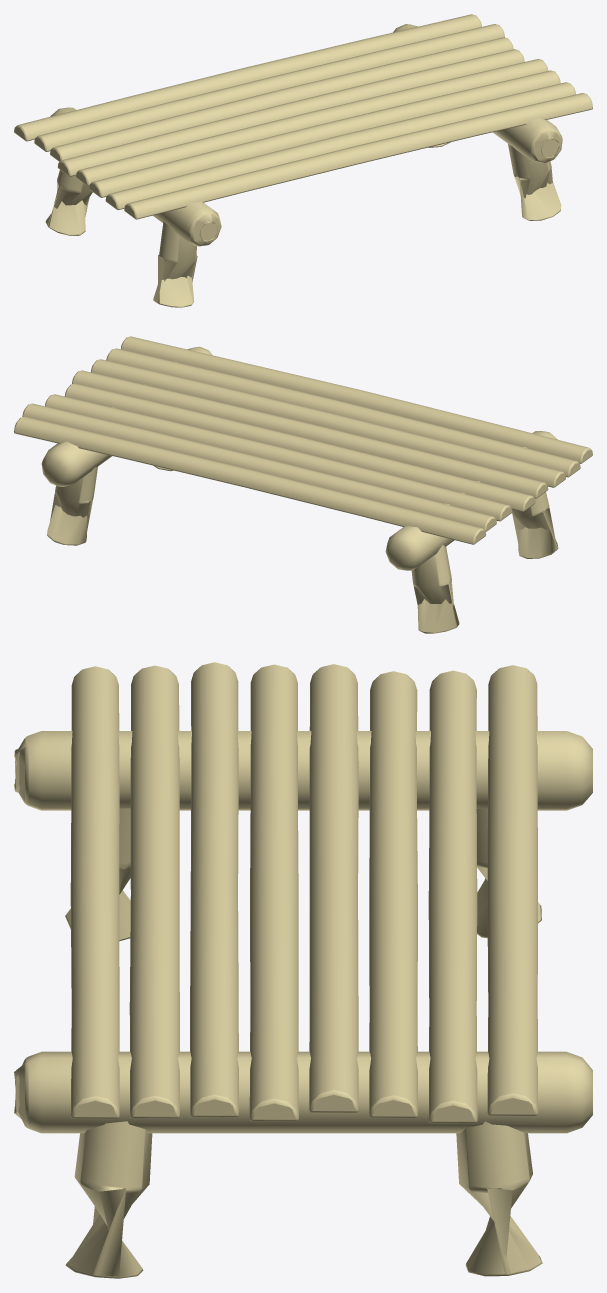
The model's file is pt_bench_3.glb.
The picture shows the model from 3 angles, top to bottom: view 1: azimuth 30°, elevation 25°; view 2: azimuth 150°, elevation 25°; view 3: azimuth 270°, elevation 25°; orthographic projection. The views are drawn at different scales.
Parts seen in each view (by area): view 1: pt_bench_3_bamboo; view 2: pt_bench_3_bamboo; view 3: pt_bench_3_bamboo.
Part boxes in pixels (x1,y1,x2,y2): pt_bench_3_bamboo: [14, 14, 592, 307]; pt_bench_3_bamboo: [14, 336, 592, 633]; pt_bench_3_bamboo: [14, 662, 592, 1278].
Size of the model in its own units: 1.99 by 0.4723 by 1.11.
